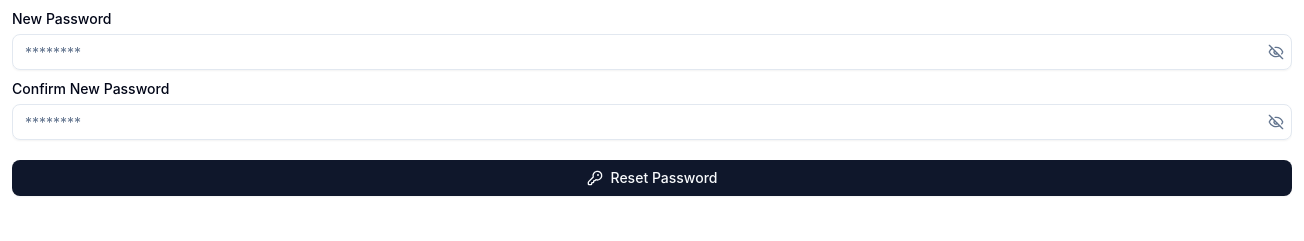
ResetPasswordForm › blocks submission when the passwords do not match
Type "new-password-456" into the password field labelled "New Password" at x=652, y=52, box [12,34,1292,70]
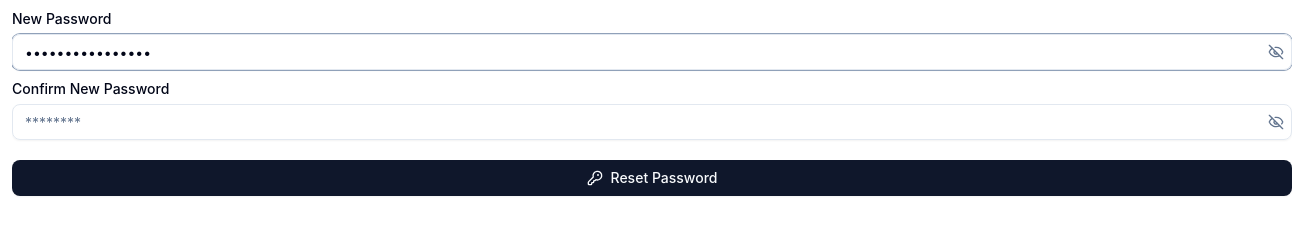
Type "different" into the password field labelled "Confirm New Password" at x=652, y=122, box [12,104,1292,140]
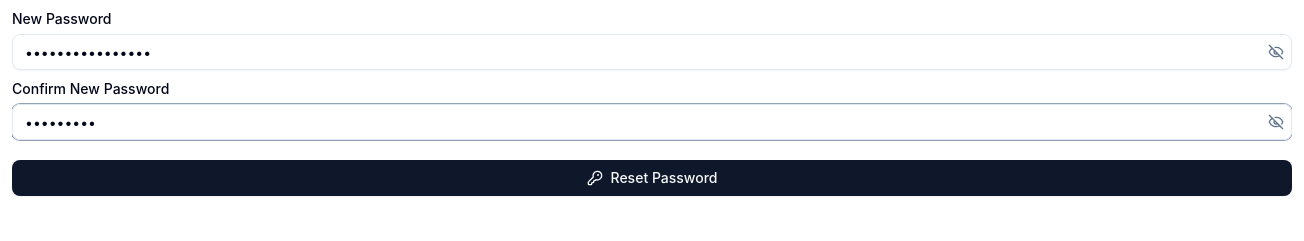
Click the button "Reset Password" at x=652, y=178, box [12,160,1292,196]
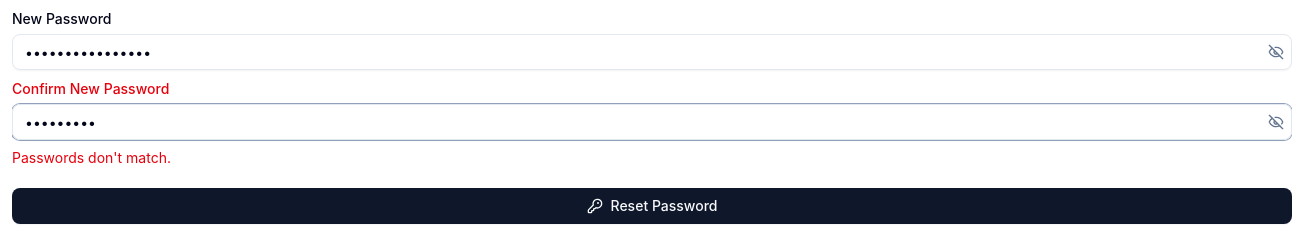
Expected: the text "Passwords don't match." is shown, [12,149,171,166]
